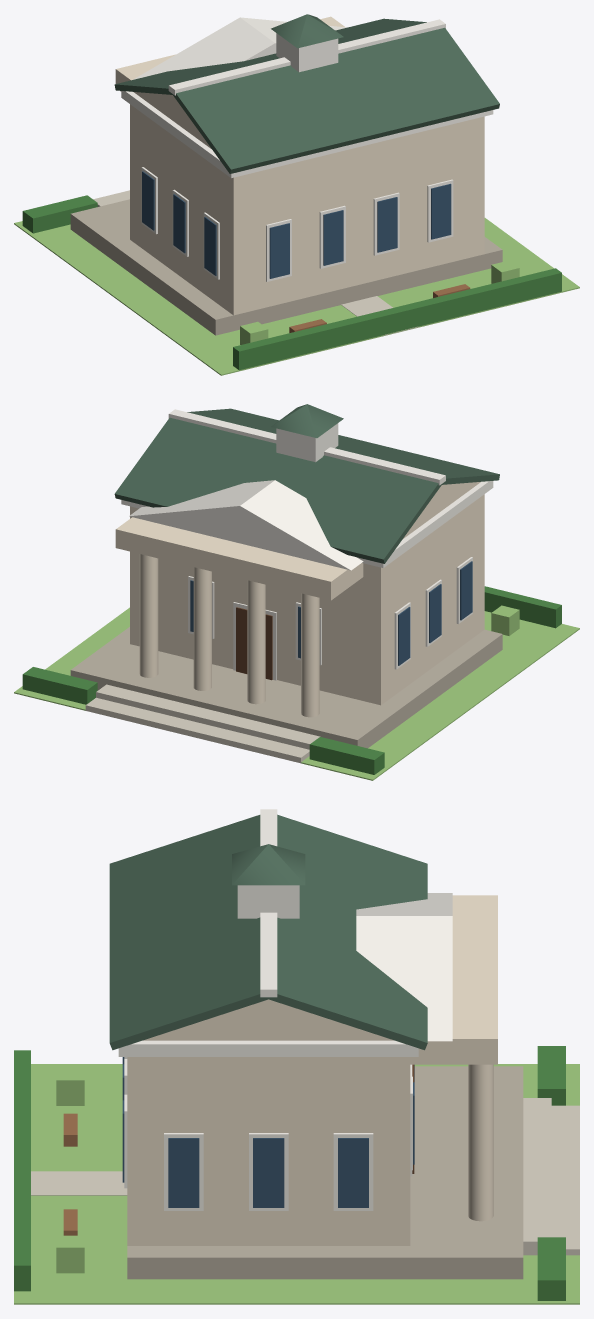
Rendered from library.glb.
3 views of the same model, one above another, from view 1: azimuth 30°, elevation 25°; view 2: azimuth 150°, elevation 25°; view 3: azimuth 270°, elevation 25° (orthographic). The views are drawn at different scales.
Visible parts, largest first — view 1: hall, roof (×2), podium, hedge (×2), window_glass (×7), lawn_side (×2), garden, pediment, cornice, ridge, window_frame (×4), cupola (+5 smaller); view 2: hall, roof (×2), podium, column (×4), pediment, entablature, step (×2), lawn_side (×2), hedge (×3), ridge, window_glass (×3), garden (+8 smaller); view 3: roof (×2), hall, podium, garden, lawn_side, pediment, entablature, step (×2), hedge (×3), window_glass (×3), gable, cornice (+8 smaller).
Boxes of the visible parts, x1,y1,x2,y2 form: hall: (130,104,484,315); roof (×2): (114,18,499,173); podium: (70,199,502,335); hedge (×2): (22,195,561,370); window_glass (×7): (142,171,451,278); lawn_side (×2): (34,218,538,344); garden: (179,257,579,375); pediment: (133,17,347,79); cornice: (121,91,493,178); ridge: (168,19,445,95); window_frame (×4): (266,179,453,281); cupola: (276,33,338,72); hall: (130,494,484,705); roof (×2): (114,408,499,563); podium: (70,627,502,748); column (×4): (139,554,319,717); pediment: (129,480,363,570); entablature: (115,517,363,600); step (×2): (85,684,320,763); lawn_side (×2): (45,607,538,765); hedge (×3): (22,586,561,774); ridge: (168,409,445,485); window_glass (×3): (398,561,472,665); garden: (484,611,579,658); roof (×2): (109,814,427,1050); hall: (127,1057,410,1245); podium: (127,1066,523,1279); garden: (14,1064,127,1304); lawn_side: (127,1279,523,1304); pediment: (356,893,452,1041); entablature: (410,895,497,1064); step (×2): (523,1098,579,1255); hedge (×3): (14,1046,565,1300); window_glass (×3): (168,1138,368,1207); gable: (143,999,394,1040); cornice: (118,1040,418,1056).
Size of the model in its own units: 20 by 13.3 by 20.
